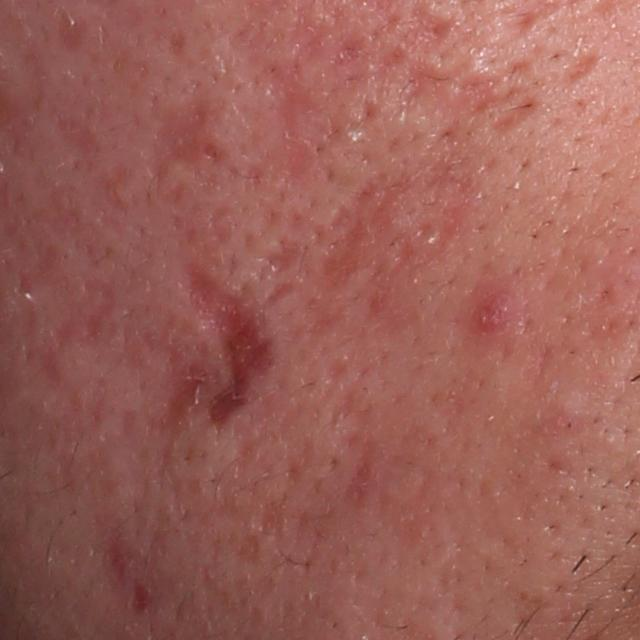atrophic_scar: (184, 264, 271, 429), (315, 180, 404, 290), (146, 88, 238, 193), (451, 60, 541, 135), (394, 60, 475, 115), (258, 232, 306, 281), (551, 47, 601, 91), (404, 7, 444, 55), (129, 579, 150, 613)
papule: (459, 270, 538, 343)
